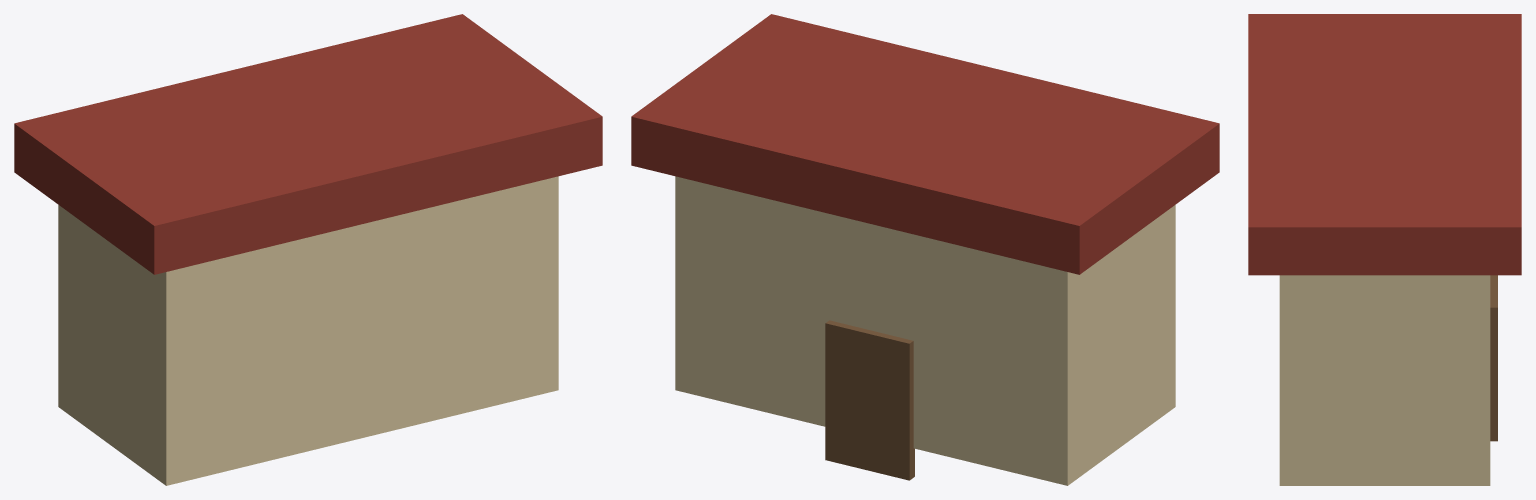
File: station_building_1995.glb
The picture shows the model from 3 angles, left to right: view 1: azimuth 30°, elevation 25°; view 2: azimuth 150°, elevation 25°; view 3: azimuth 270°, elevation 25°; orthographic projection. The views are drawn at different scales.
Visible parts, largest first — view 1: Walls, Roof; view 2: Walls, Roof, Door; view 3: Roof, Walls, Door.
Boxes of the visible parts, x1=… form: Walls: x1=58, y1=176, x2=558, y2=485; Roof: x1=14, y1=14, x2=602, y2=274; Walls: x1=675, y1=176, x2=1175, y2=485; Roof: x1=631, y1=14, x2=1219, y2=274; Door: x1=825, y1=320, x2=914, y2=480; Roof: x1=1248, y1=14, x2=1521, y2=275; Walls: x1=1279, y1=275, x2=1490, y2=485; Door: x1=1490, y1=275, x2=1497, y2=441.
Bounding box in the file's own units: 0.96 × 0.63 × 0.52.
